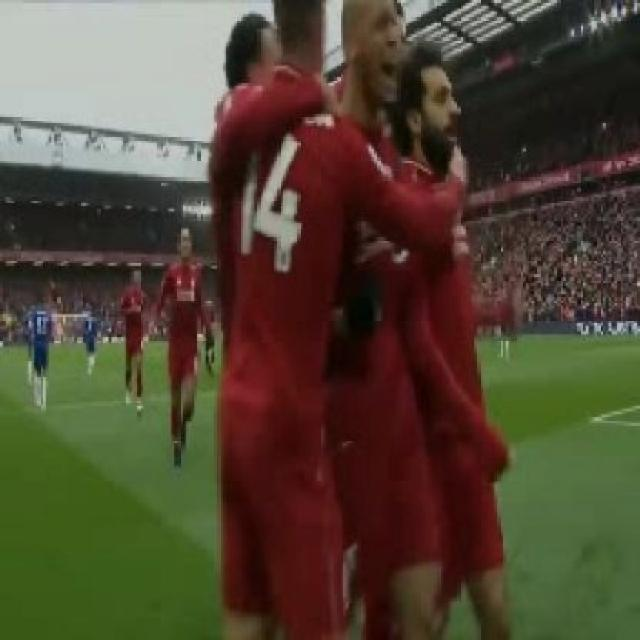fight: (204, 0, 512, 638)
non-fight: (160, 225, 208, 469), (114, 265, 149, 412), (28, 286, 60, 408)
